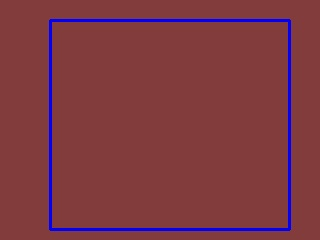ganoderma: (50, 20, 240, 210)
